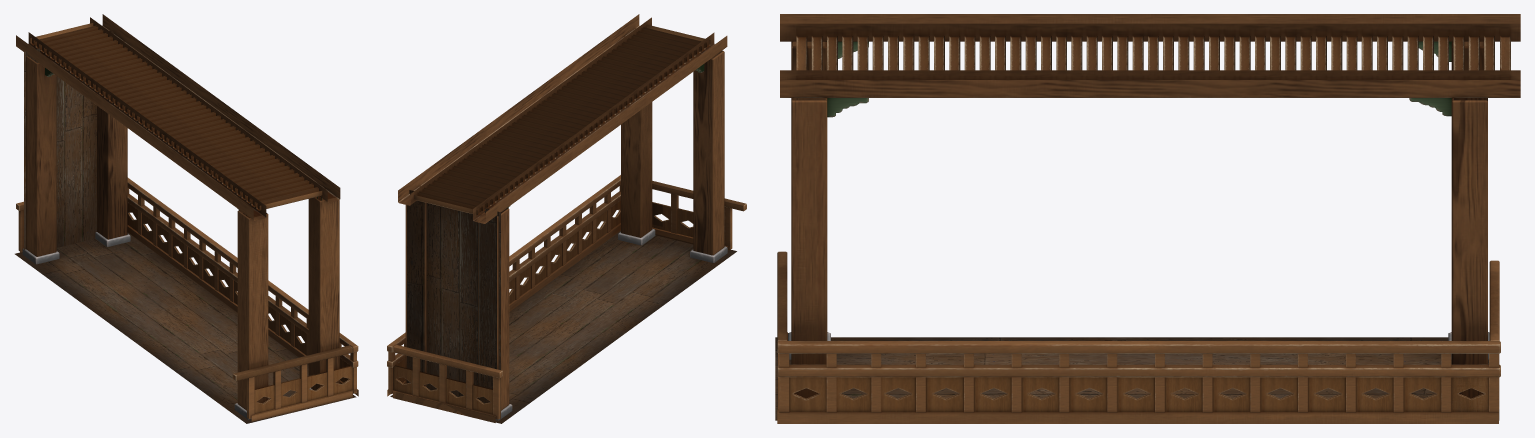
File: TraditionalKoreanHouse_Terrace.fbx
3 renders of one model, left to right at view 1: azimuth 30°, elevation 25°; view 2: azimuth 150°, elevation 25°; view 3: azimuth 270°, elevation 25°, orthographic. The views are drawn at different scales.
Visible parts, largest first — view 1: TraditionalKoreanHouse_Terrace; view 2: TraditionalKoreanHouse_Terrace; view 3: TraditionalKoreanHouse_Terrace.
Part boxes in pixels (x1,y1,x2,y2): TraditionalKoreanHouse_Terrace: (15,14,358,423); TraditionalKoreanHouse_Terrace: (387,14,746,423); TraditionalKoreanHouse_Terrace: (775,14,1520,423).
Size of the model in its own units: 182 by 301 by 615.
